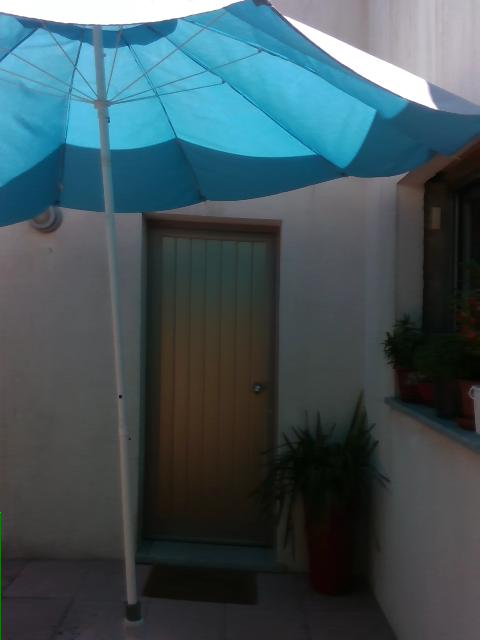door: (138, 209, 283, 565)
